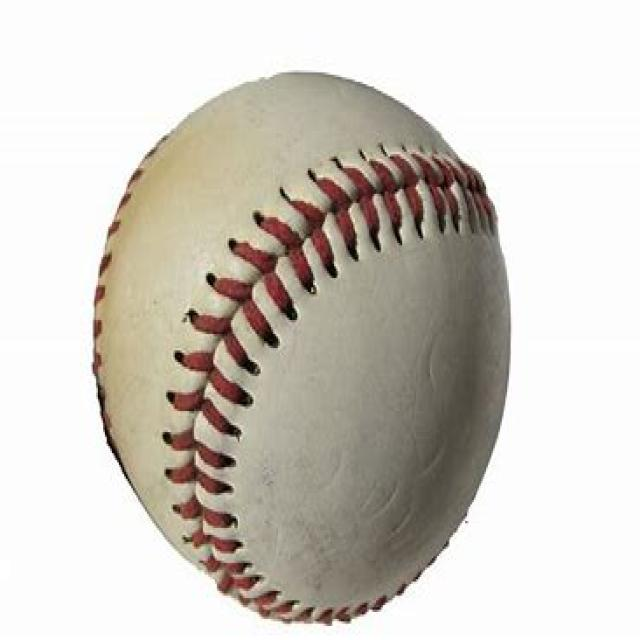ball: (89, 65, 513, 624)
